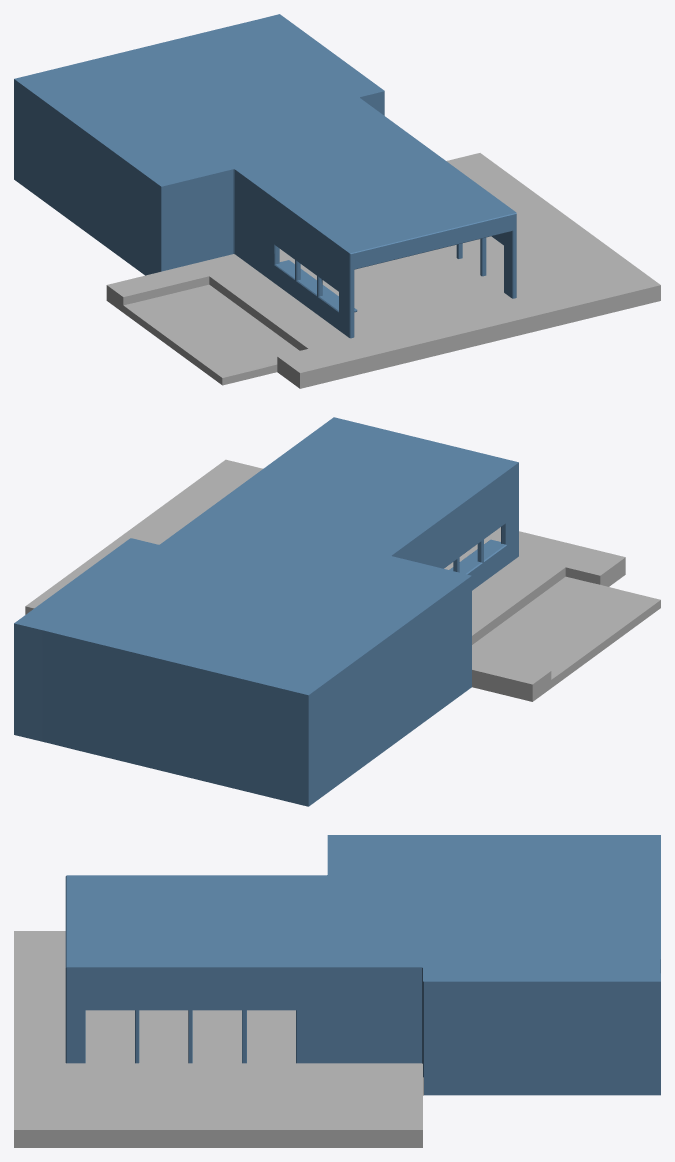
Rendered from building Unused 2.fbx.
3 views of the same model, one above another, from view 1: azimuth 30°, elevation 25°; view 2: azimuth 150°, elevation 25°; view 3: azimuth 270°, elevation 25° (orthographic). The views are drawn at different scales.
Parts seen in each view (by area): view 1: Building; view 2: Building; view 3: Building.
Boxes of the visible parts, left/top/right/bottom form: Building: left=14, top=14, right=660, bottom=388; Building: left=14, top=417, right=660, bottom=806; Building: left=14, top=835, right=660, bottom=1147.
Bounding box in the file's own units: 2279 × 527 × 2718.
